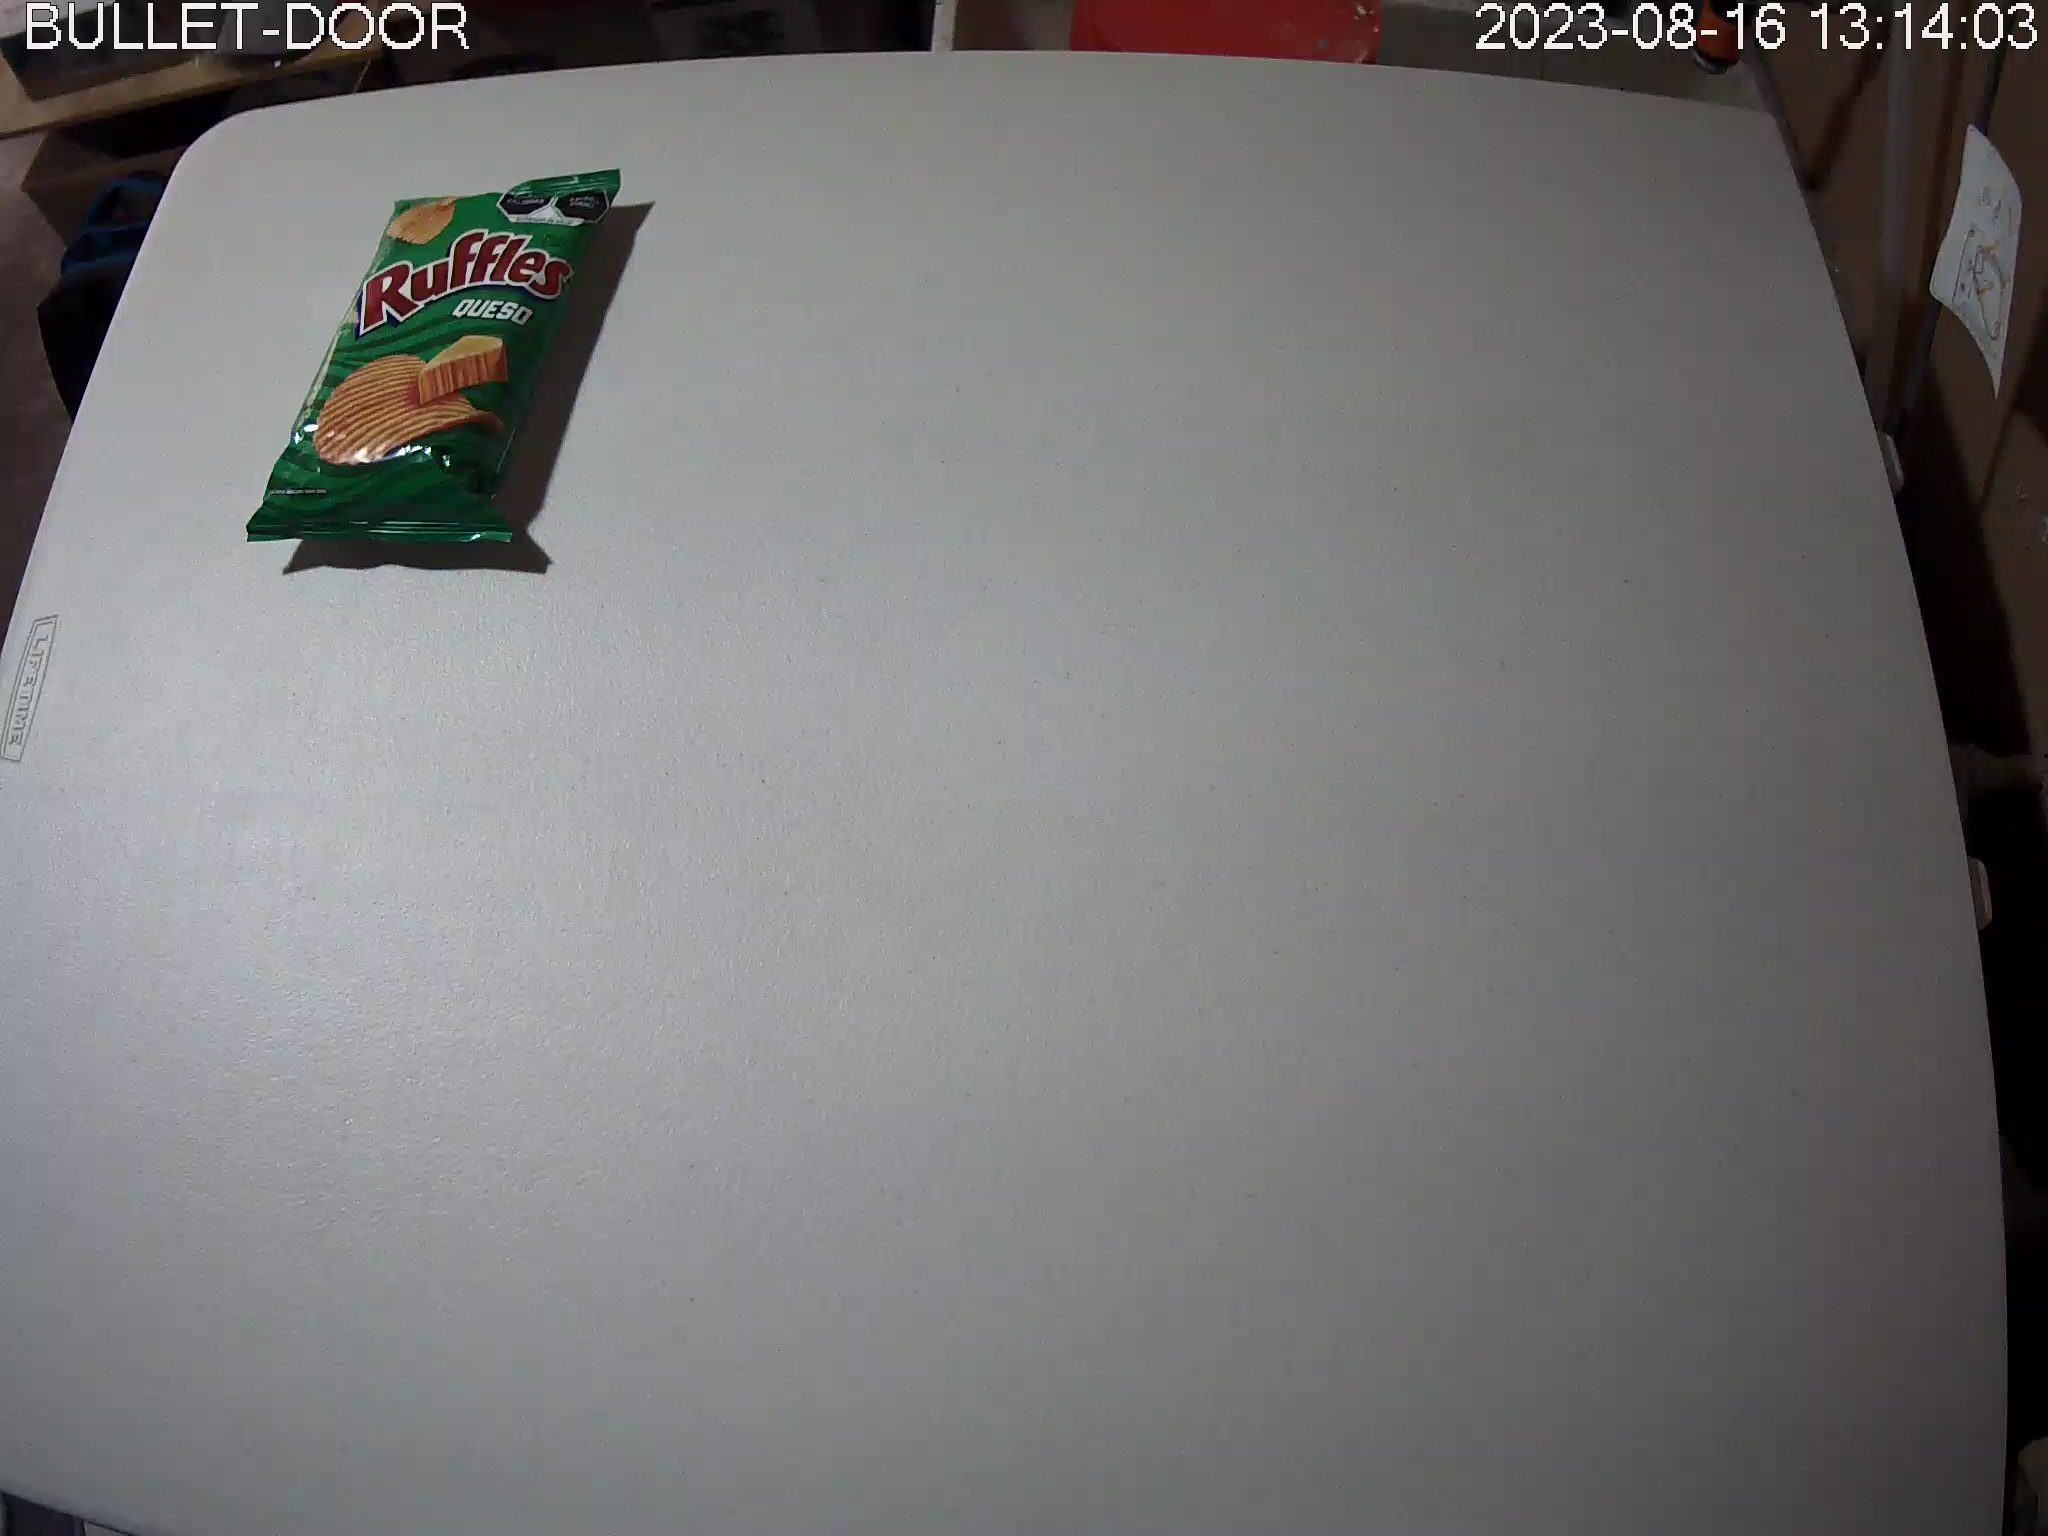RufflesQ_48_F: (244, 165, 622, 553)
